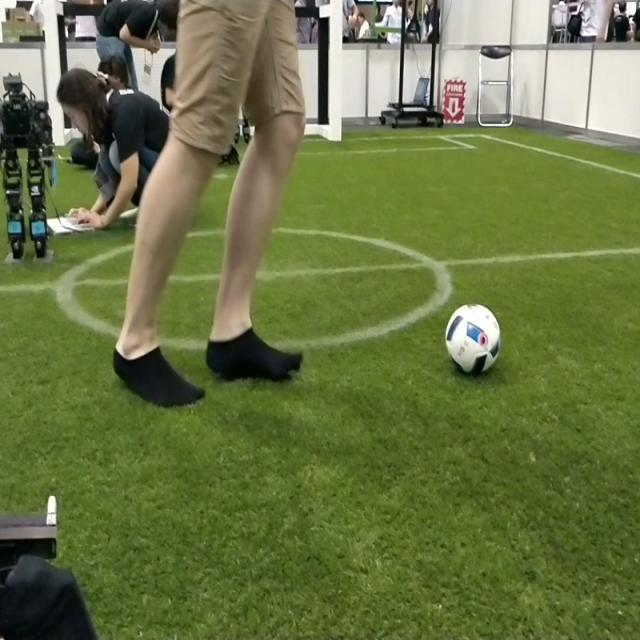ball: (446, 303, 502, 375)
goalpost: (40, 1, 66, 143), (330, 0, 344, 142)
